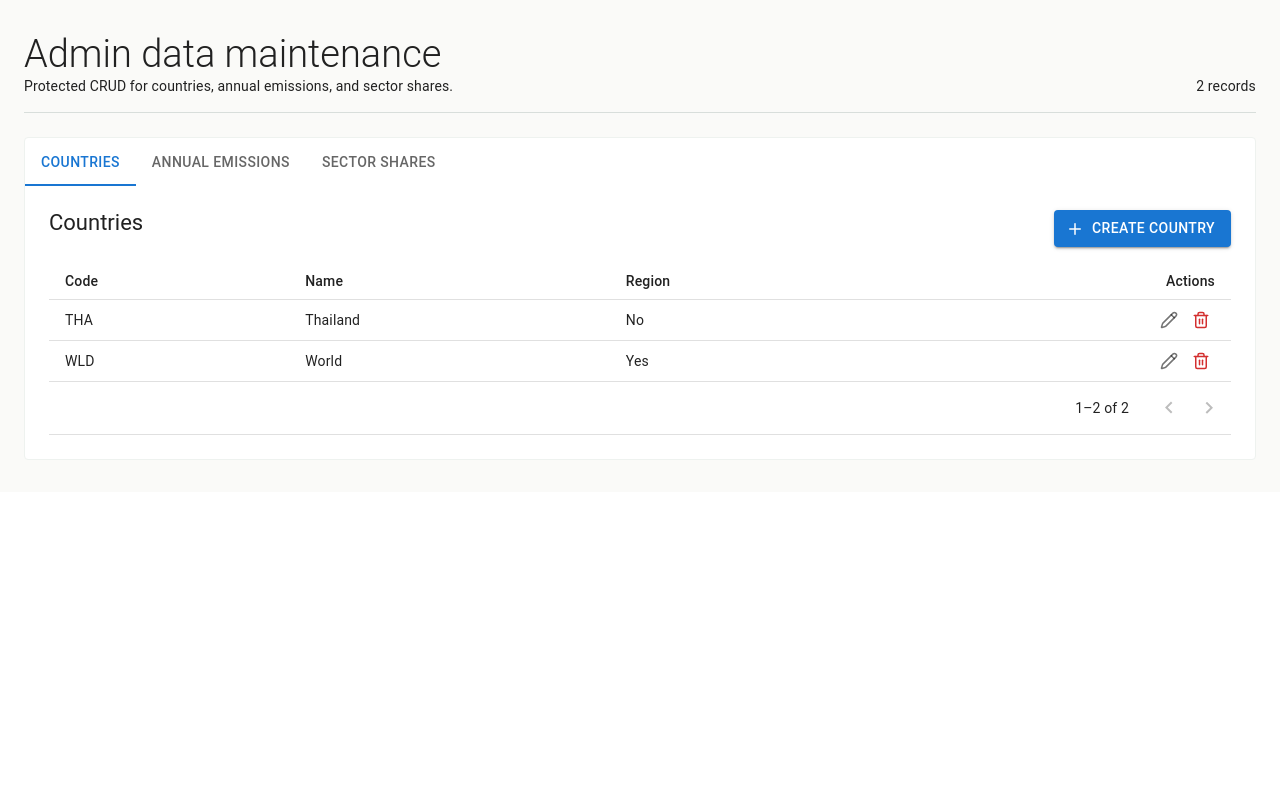
Test: AdminPageClient › creates countries through the existing write API and invalidates dashboard queries
expect the text "Thailand" is shown: met, box [289,299,610,340]
Click the button "Create country". click: click(1142, 229)
box: [1054,210,1231,247]
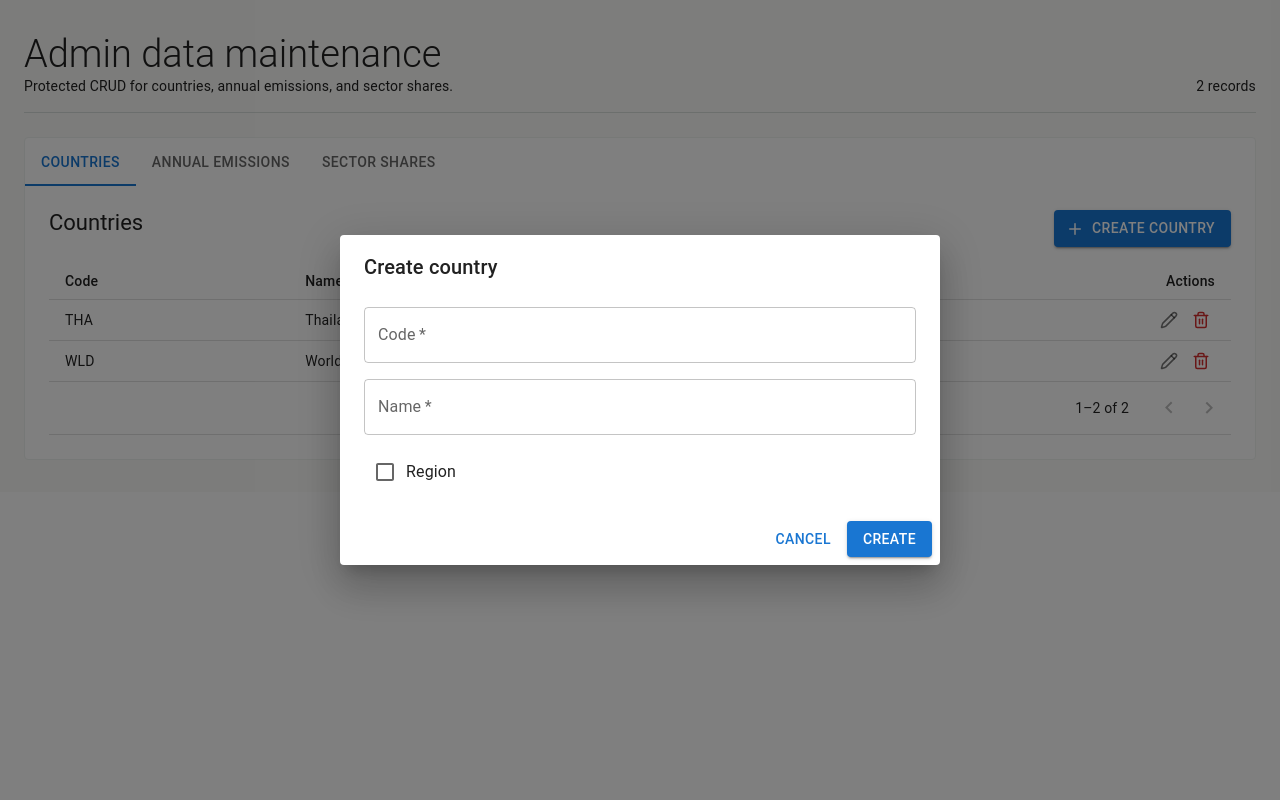
Type "JPN" into the field labelled "Code *". click: (640, 335)
box: [364,307,916,363]
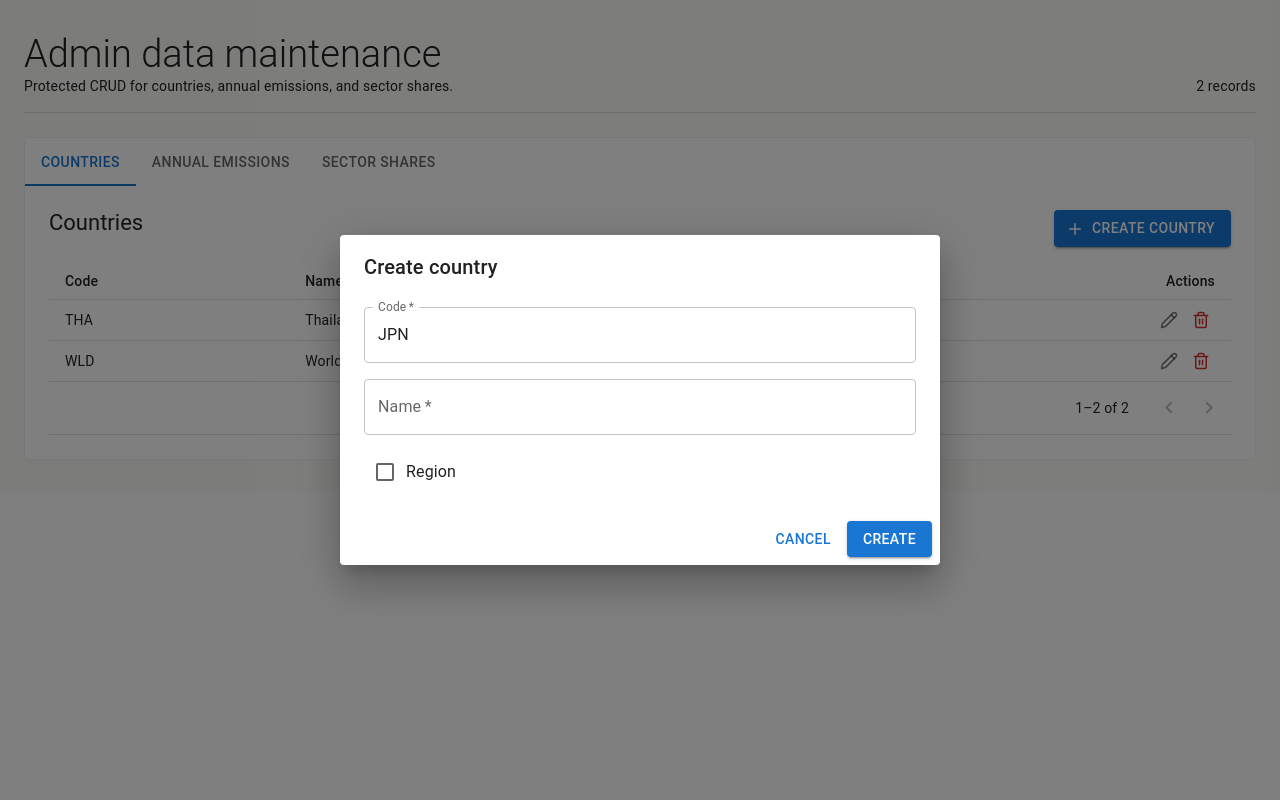
Type "Japan" into the field labelled "Name *". click: (640, 407)
box: [364,379,916,435]
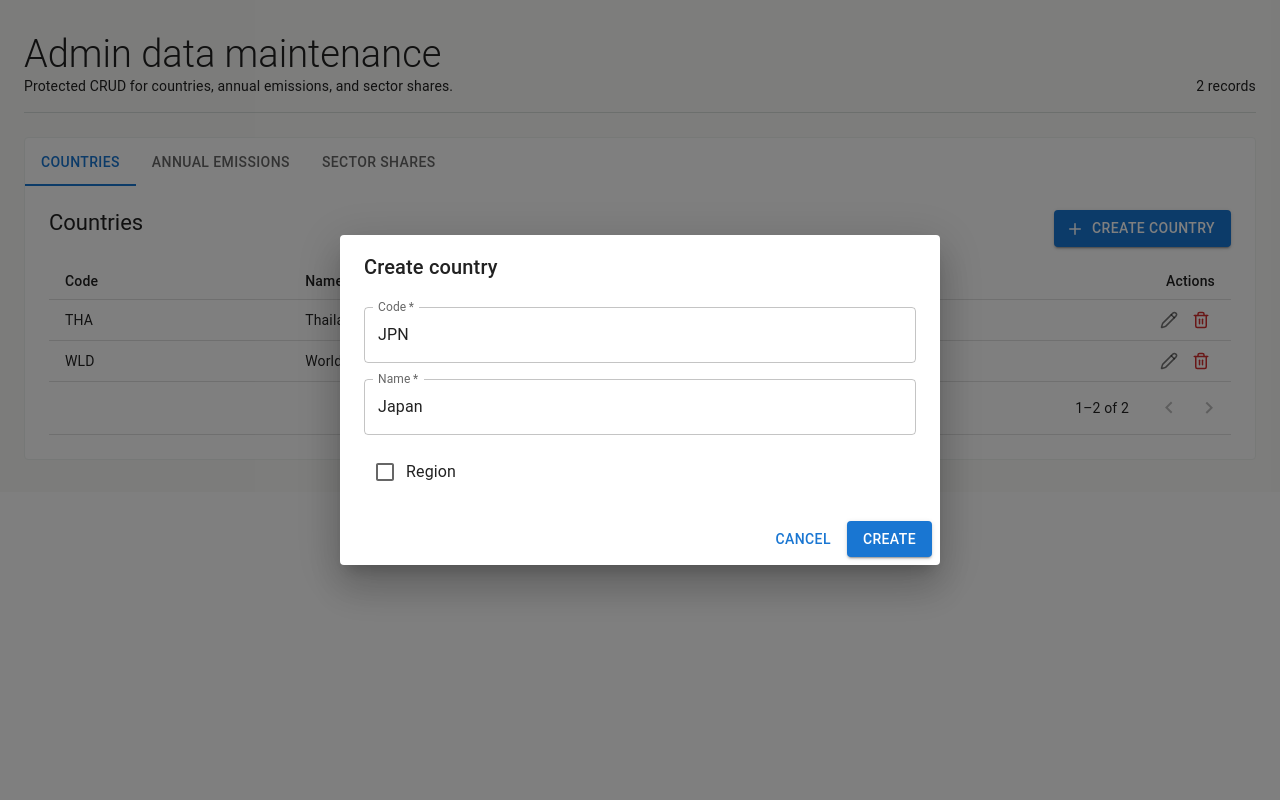
Click the button "Create". click: click(889, 539)
box: [847,521,932,557]
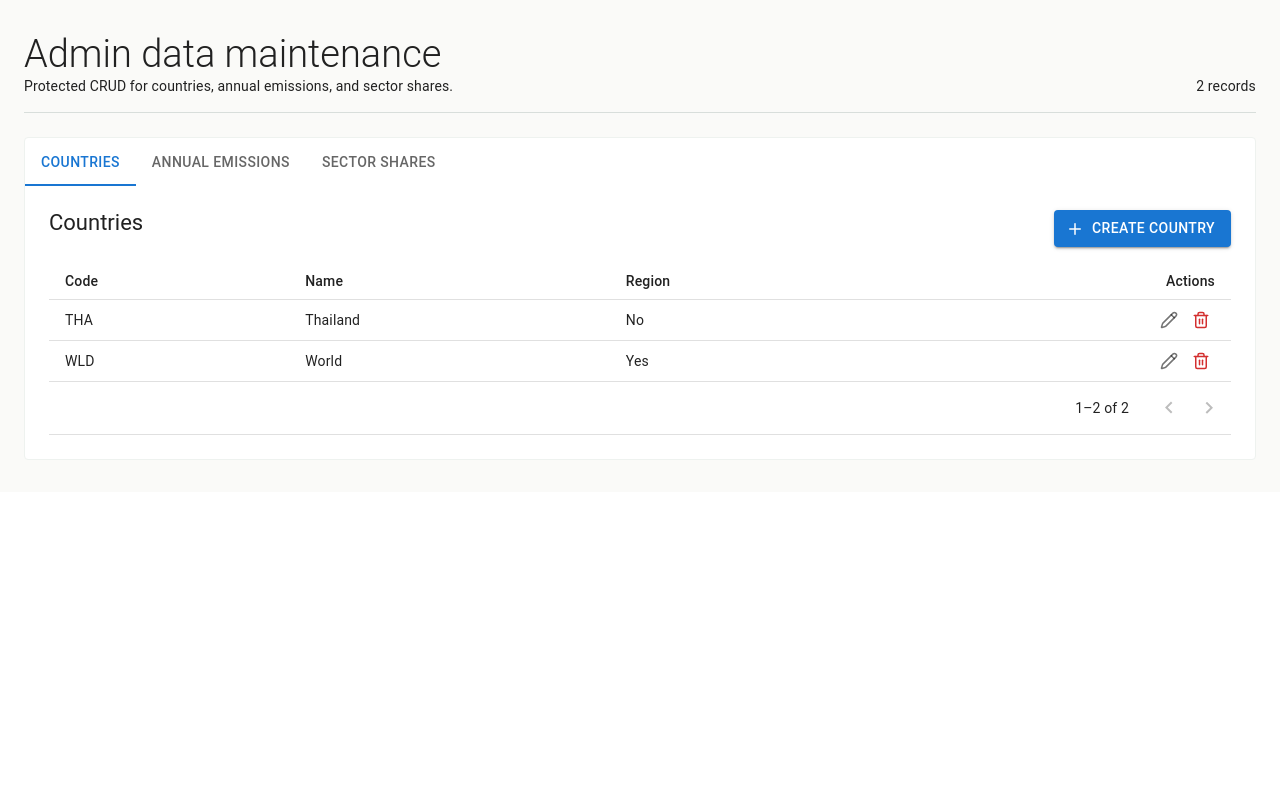
expect the dialog is gone: met
